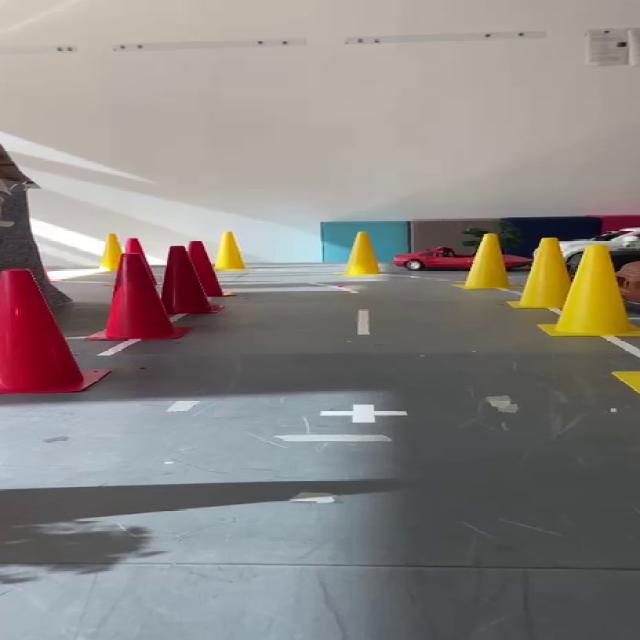Cone-red: (0, 271, 109, 394), (90, 239, 186, 338), (161, 246, 219, 314), (189, 241, 225, 297)
Cones-yellow: (541, 245, 639, 336), (512, 239, 570, 308), (461, 234, 508, 289), (343, 232, 381, 276), (215, 232, 246, 269), (99, 234, 121, 272), (612, 372, 639, 393)
